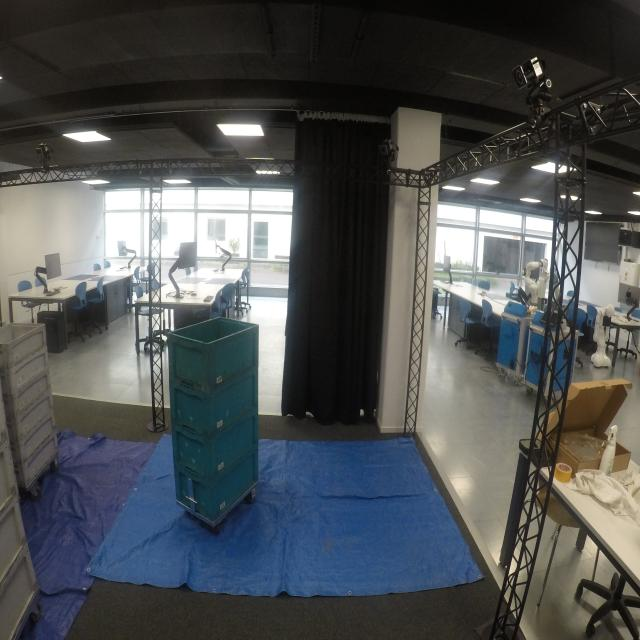BoxB4: (168, 370, 268, 434), (168, 317, 264, 381), (170, 410, 259, 476), (173, 452, 259, 517)
